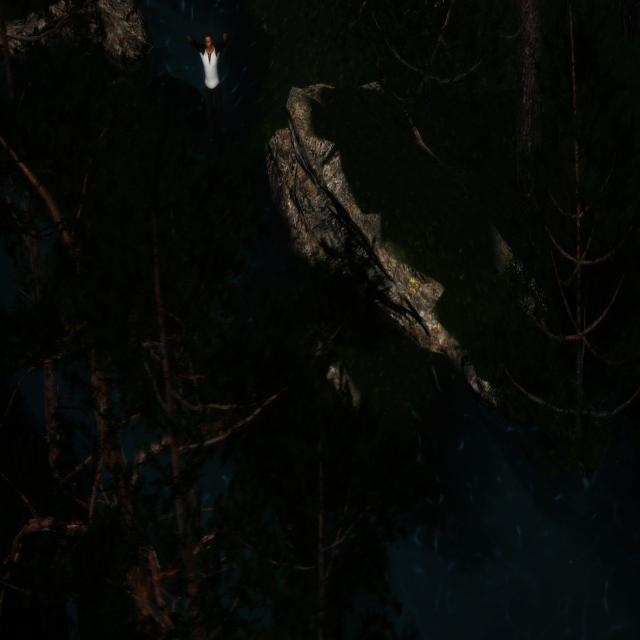Human: (186, 28, 234, 166)
